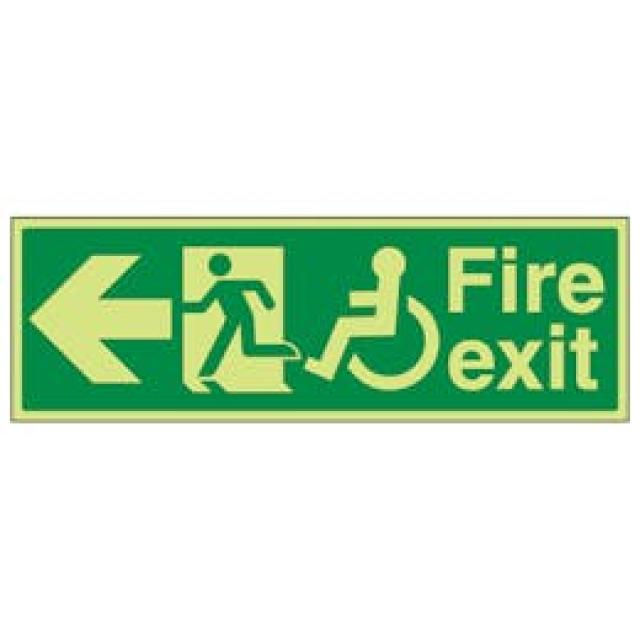exit_sign: (1, 205, 639, 428)
